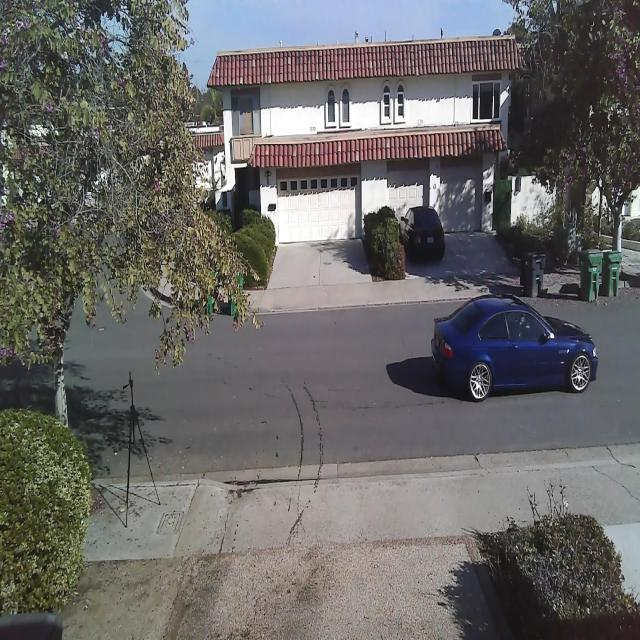Carbeetle: (426, 287, 601, 408)
Civilian: (397, 206, 445, 264)
